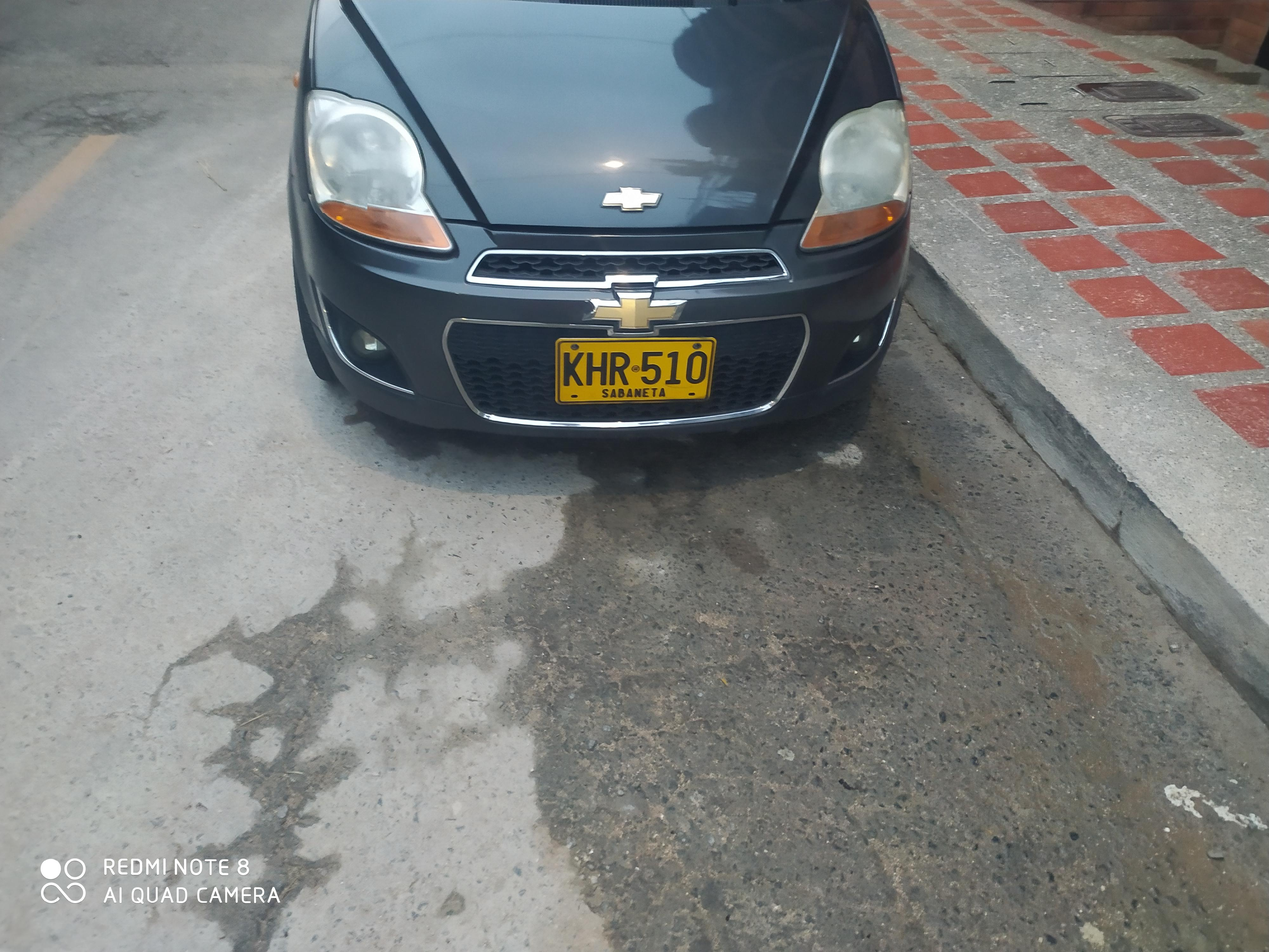placa: (553, 333, 718, 416)
